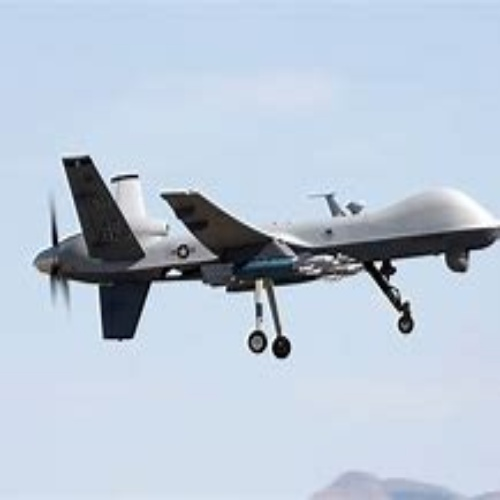uav: (28, 156, 499, 363)
